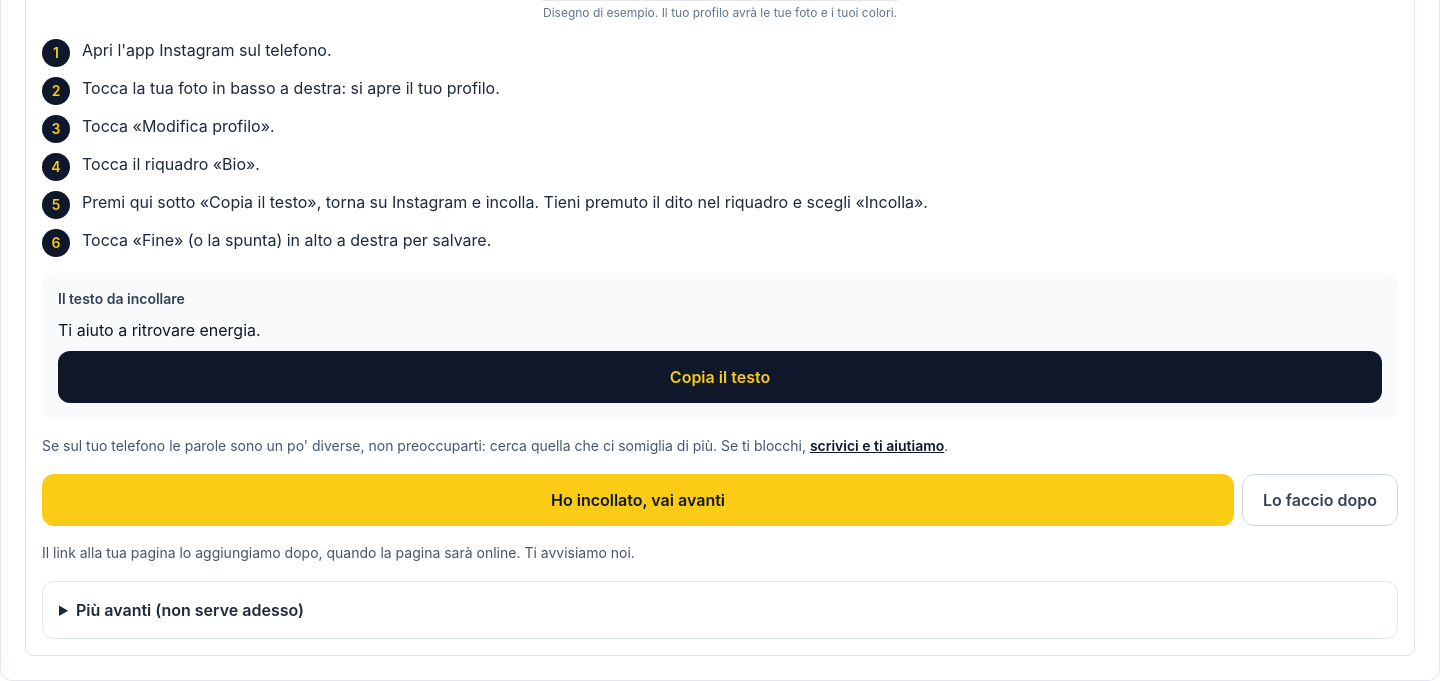
profili social guidati › il testo si copia con un pulsante grande e dice cosa fare dopo
This screenshot has width=1440, height=681.
(page scrolled)
Click the button "Copia il testo": {"x": 720, "y": 377} [58,351,1382,403]
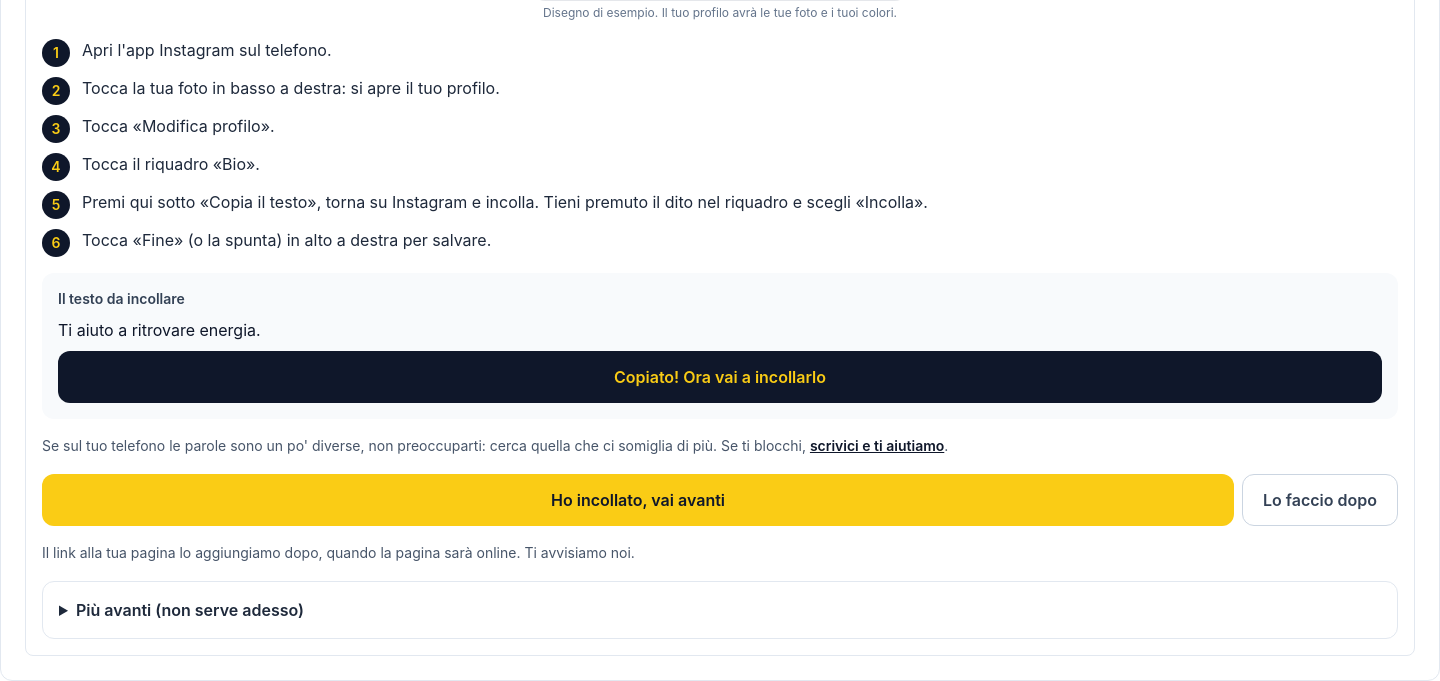
Expected: the button "Copiato! Ora vai a incollarlo" is shown, [58,351,1382,403]
